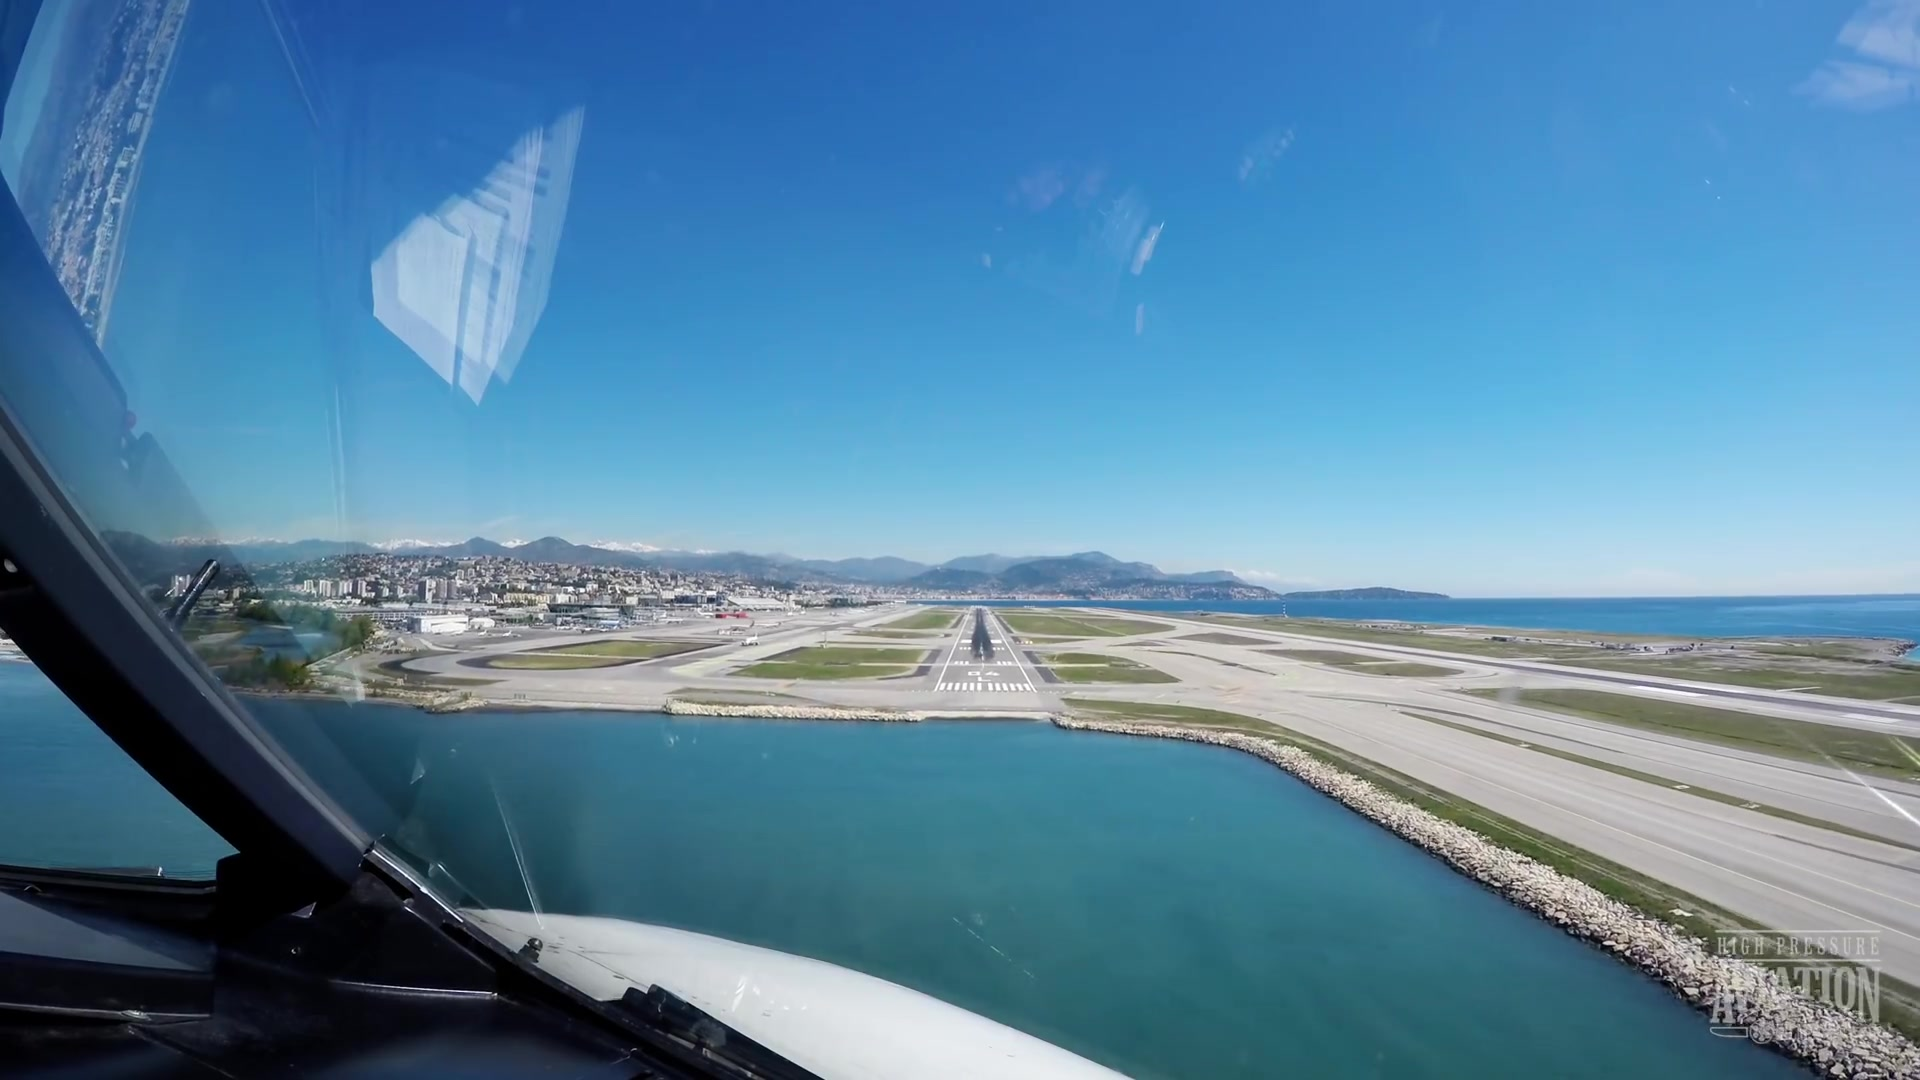entrance: (934, 678, 1036, 694)
runway: (930, 607, 1036, 700)
